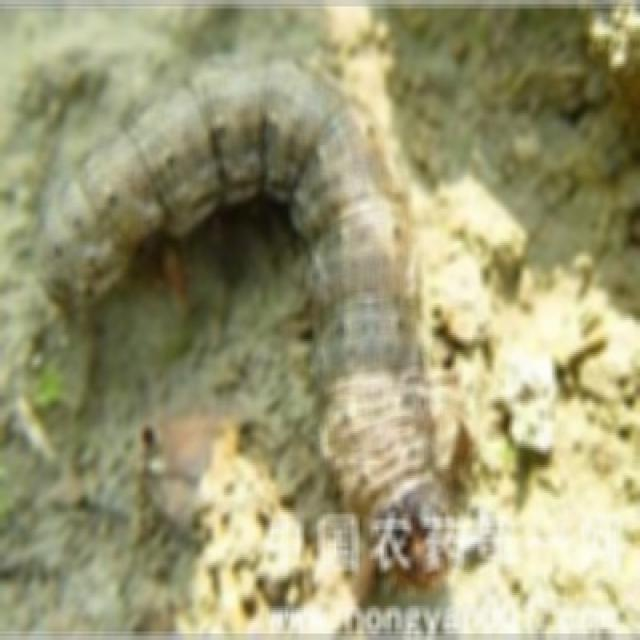black cutworm: (35, 49, 469, 584)
